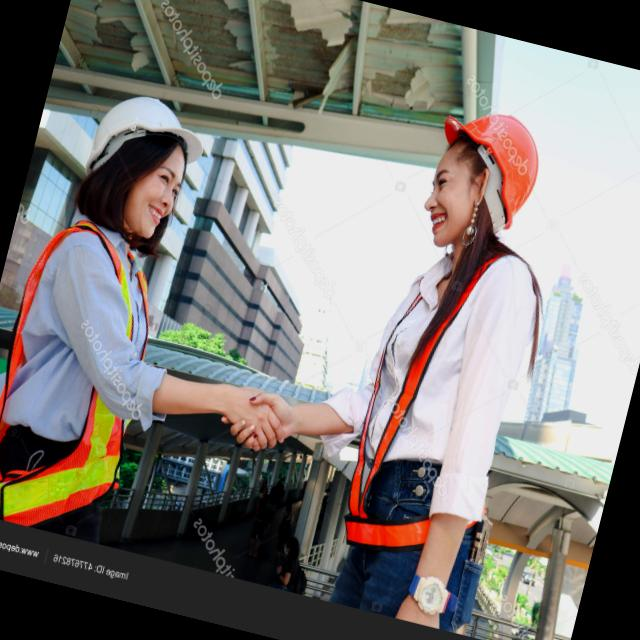helmet: (425, 86, 565, 222), (74, 71, 220, 182)
no-goggles: (412, 150, 490, 212), (123, 153, 196, 205)
vest: (326, 209, 584, 555), (0, 211, 171, 536)
